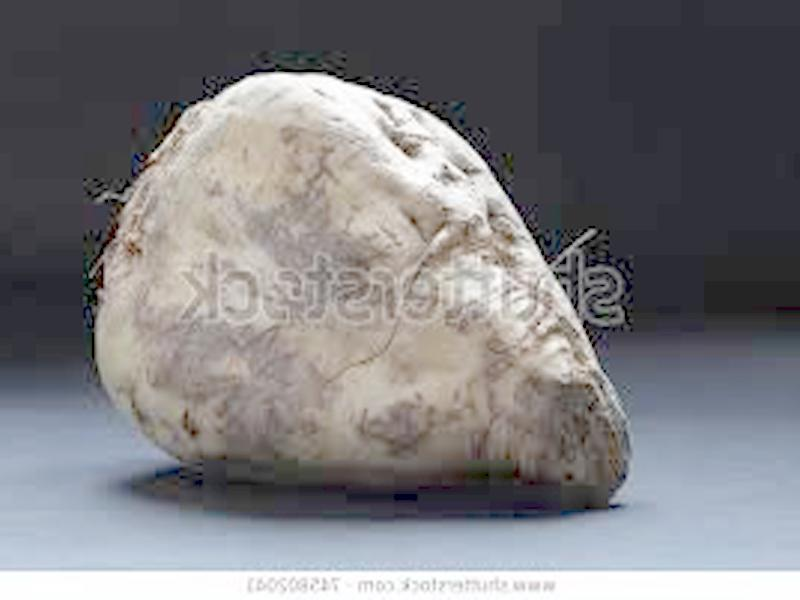Beet: (89, 77, 623, 498)
